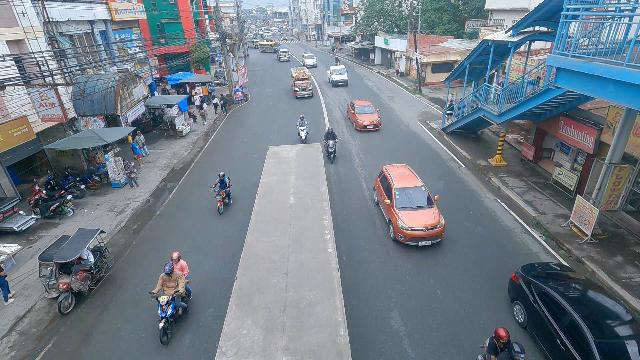car: (509, 262, 640, 360), (374, 163, 445, 246), (347, 99, 382, 130), (301, 51, 317, 67)
jeepney: (291, 66, 314, 97), (259, 41, 281, 54), (277, 47, 291, 62), (246, 39, 261, 49)
motorcycle: (152, 252, 192, 345), (210, 171, 232, 214), (323, 127, 338, 163), (296, 114, 309, 143), (334, 55, 341, 66)
truck: (327, 65, 349, 86)
